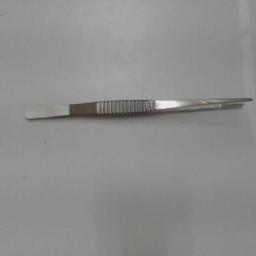DeBakey Dissector: (8, 84, 252, 136)
